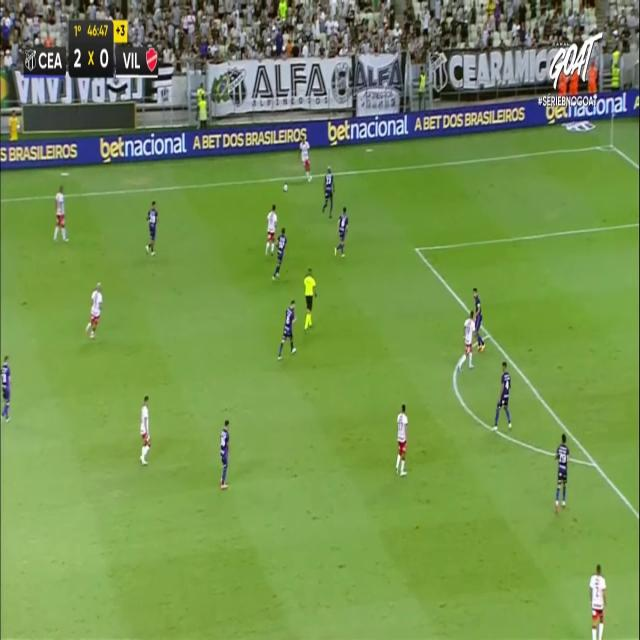ball: (280, 180, 292, 197)
player: (492, 360, 512, 431), (589, 563, 607, 639), (277, 299, 297, 360), (554, 432, 569, 513), (457, 309, 475, 371), (85, 281, 103, 339), (395, 403, 408, 476), (53, 185, 69, 242), (472, 286, 486, 351), (139, 395, 151, 465), (0, 355, 12, 422), (272, 227, 287, 280), (334, 205, 349, 257), (145, 200, 158, 255), (322, 164, 335, 218), (219, 419, 229, 489), (298, 134, 312, 183), (265, 203, 277, 255)
referee: (303, 268, 317, 330)
